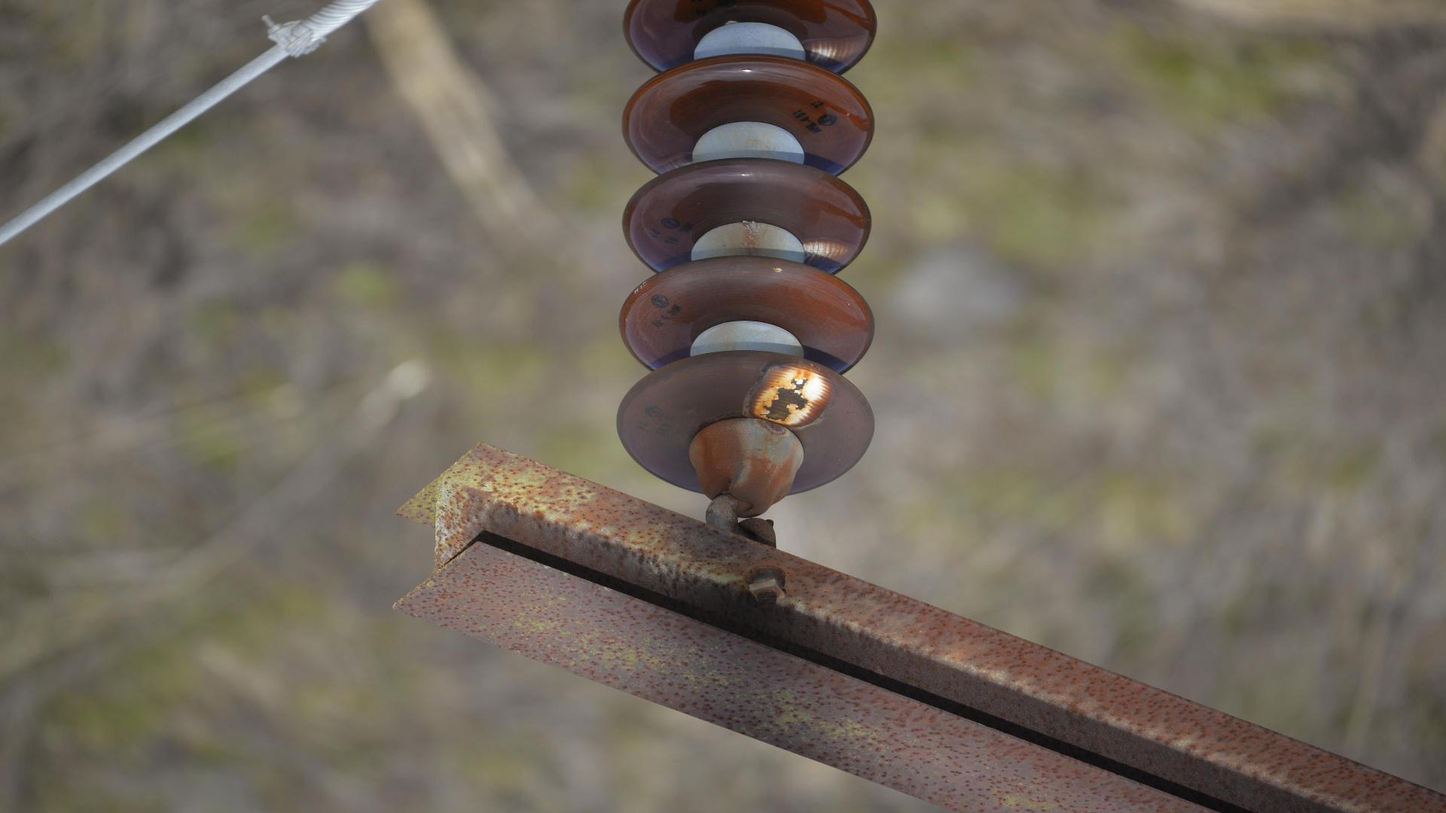insulator: (609, 1, 887, 507)
insulator_flashover: (748, 358, 836, 429), (802, 30, 875, 75), (801, 236, 866, 277)
